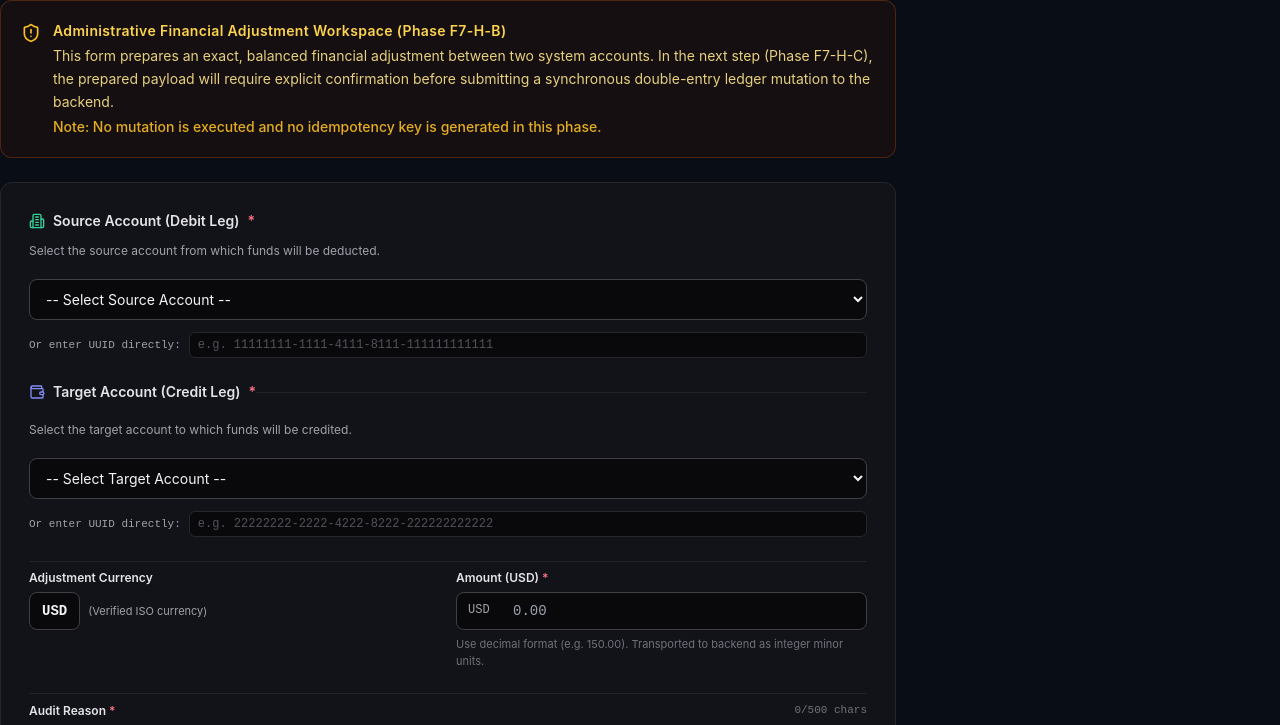
Test case: Phase F7-H-B Admin Adjustments Accessibility Audit (WCAG 2.1 AA) › warns about FROZEN/CLOSED accounts with role='status' without relying purely on color
Select "ACCT-A11Y-001 (CUSTOMER) — USD [FROZEN]" in the dropdown named "Source Account Selection" below "Source Account (Debit Leg)" at (448, 300), box [29,279,867,320]
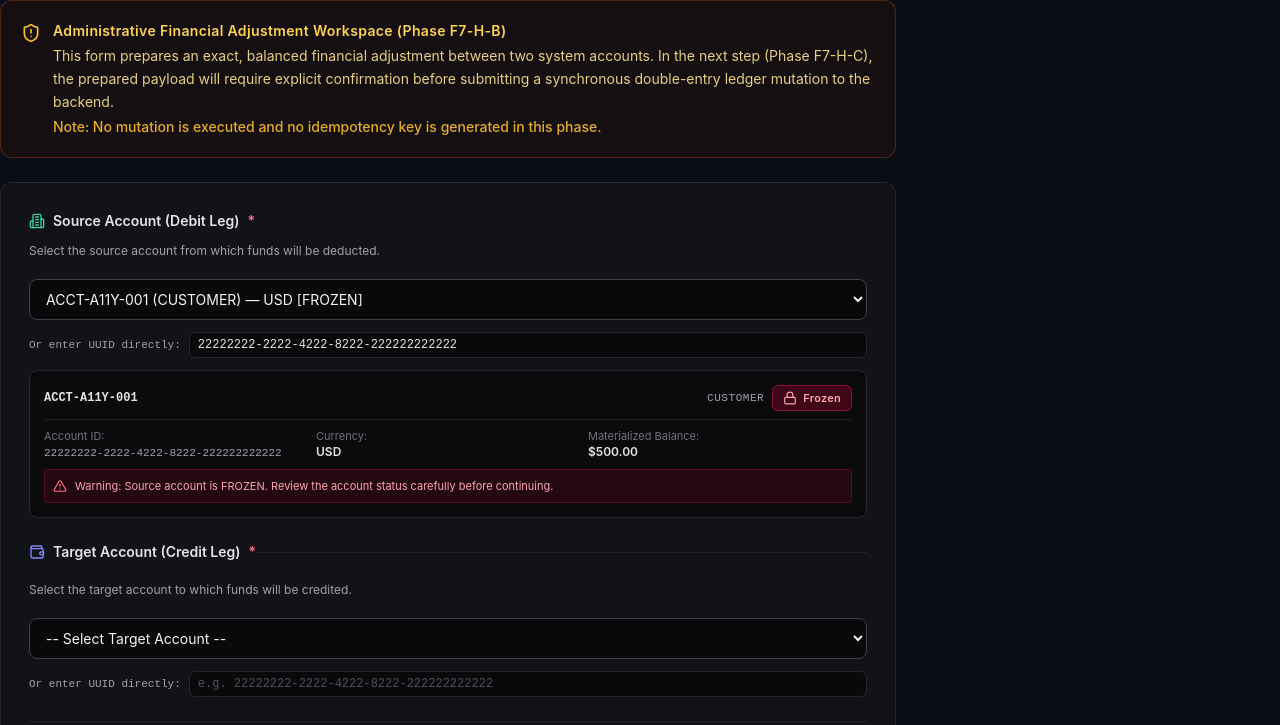
Result: the message is shown at [44,469,852,503]
Result: the message shows "Warning: Source account is FROZEN" at [75,479,553,493]
